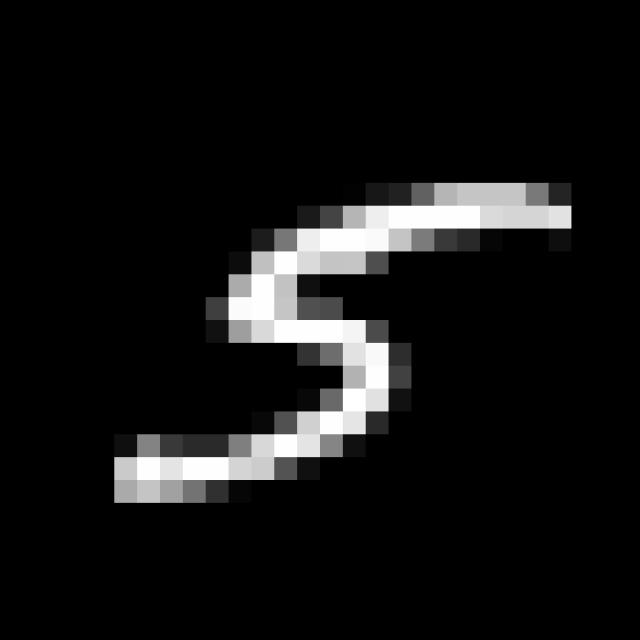five -5-: (94, 167, 583, 510)
